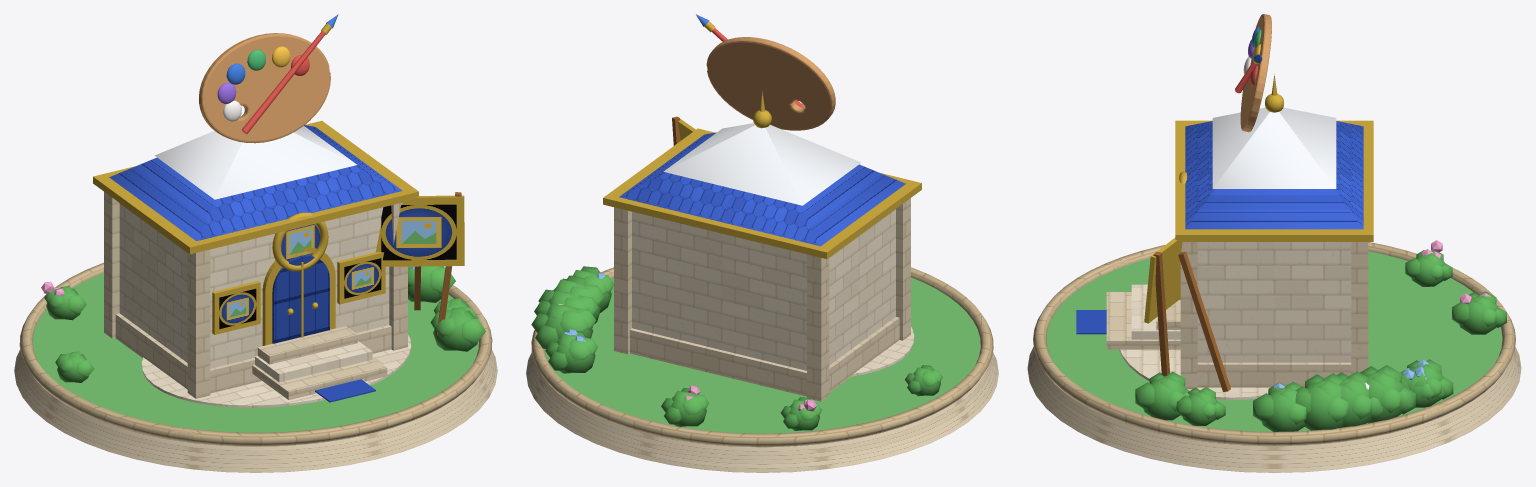
Rendered from bldg-gallery.glb.
The picture shows the model from 3 angles, left to right: view 1: azimuth 30°, elevation 25°; view 2: azimuth 150°, elevation 25°; view 3: azimuth 270°, elevation 25°; orthographic projection. The views are drawn at different scales.
Parts seen in each view (by area): view 1: bldg-gallery, snow; view 2: bldg-gallery, snow; view 3: bldg-gallery, snow.
Boxes of the visible parts, x1,y1,x2,y2 form: bldg-gallery: (14, 14, 497, 472); snow: (154, 126, 356, 199); bldg-gallery: (526, 14, 998, 472); snow: (663, 123, 861, 205); bldg-gallery: (1027, 14, 1521, 472); snow: (1212, 107, 1336, 188).
Bounding box in the file's own units: 6.36 × 4.99 × 6.36.
Materials: 25 (9 with a texture image).
